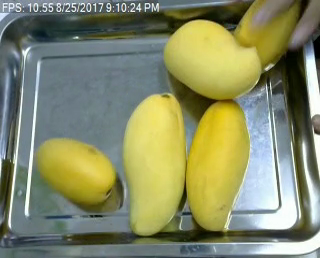Mango: (119, 91, 182, 236), (186, 98, 252, 230), (159, 17, 258, 102), (34, 136, 116, 209), (231, 1, 298, 75)
